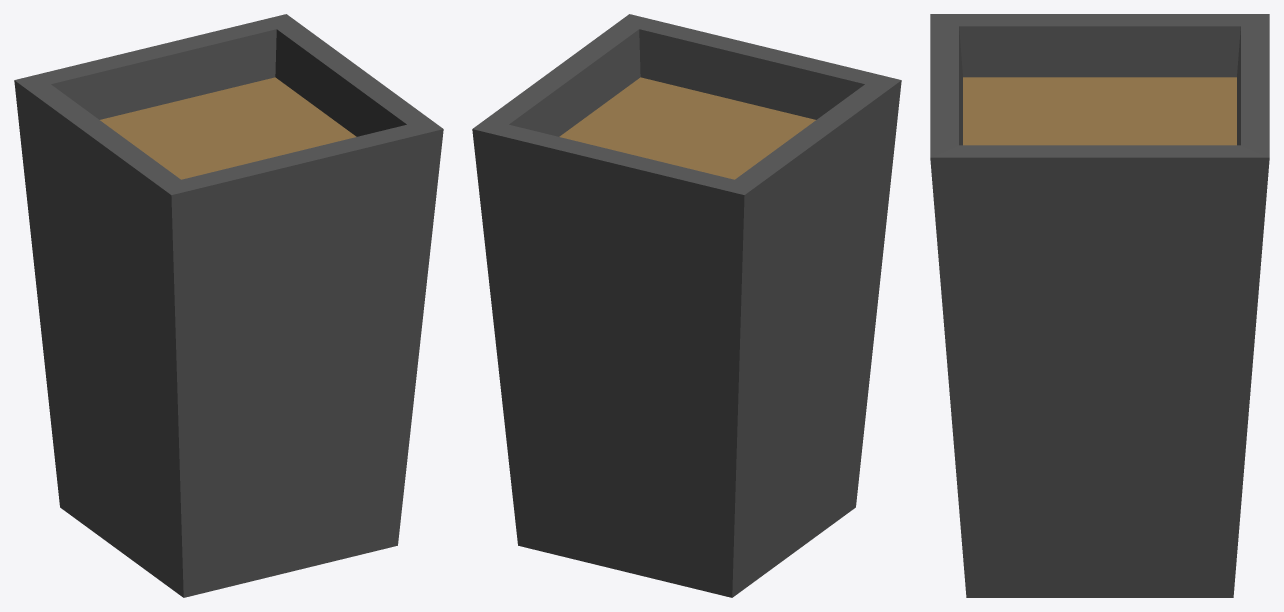
The model's file is Itr_Obj_Flowerpot1_Base_03.FBX.
The picture shows the model from 3 angles, left to right: view 1: azimuth 30°, elevation 25°; view 2: azimuth 150°, elevation 25°; view 3: azimuth 270°, elevation 25°; orthographic projection. The views are drawn at different scales.
Parts seen in each view (by area): view 1: Itr_Obj_Flowerpot1_Base_03; view 2: Itr_Obj_Flowerpot1_Base_03; view 3: Itr_Obj_Flowerpot1_Base_03.
Boxes of the visible parts, x1=… form: Itr_Obj_Flowerpot1_Base_03: x1=14, y1=14, x2=443, y2=597; Itr_Obj_Flowerpot1_Base_03: x1=472, y1=14, x2=901, y2=597; Itr_Obj_Flowerpot1_Base_03: x1=930, y1=14, x2=1269, y2=597.
Bounding box in the file's own units: 18.75 × 27.77 × 18.75.
